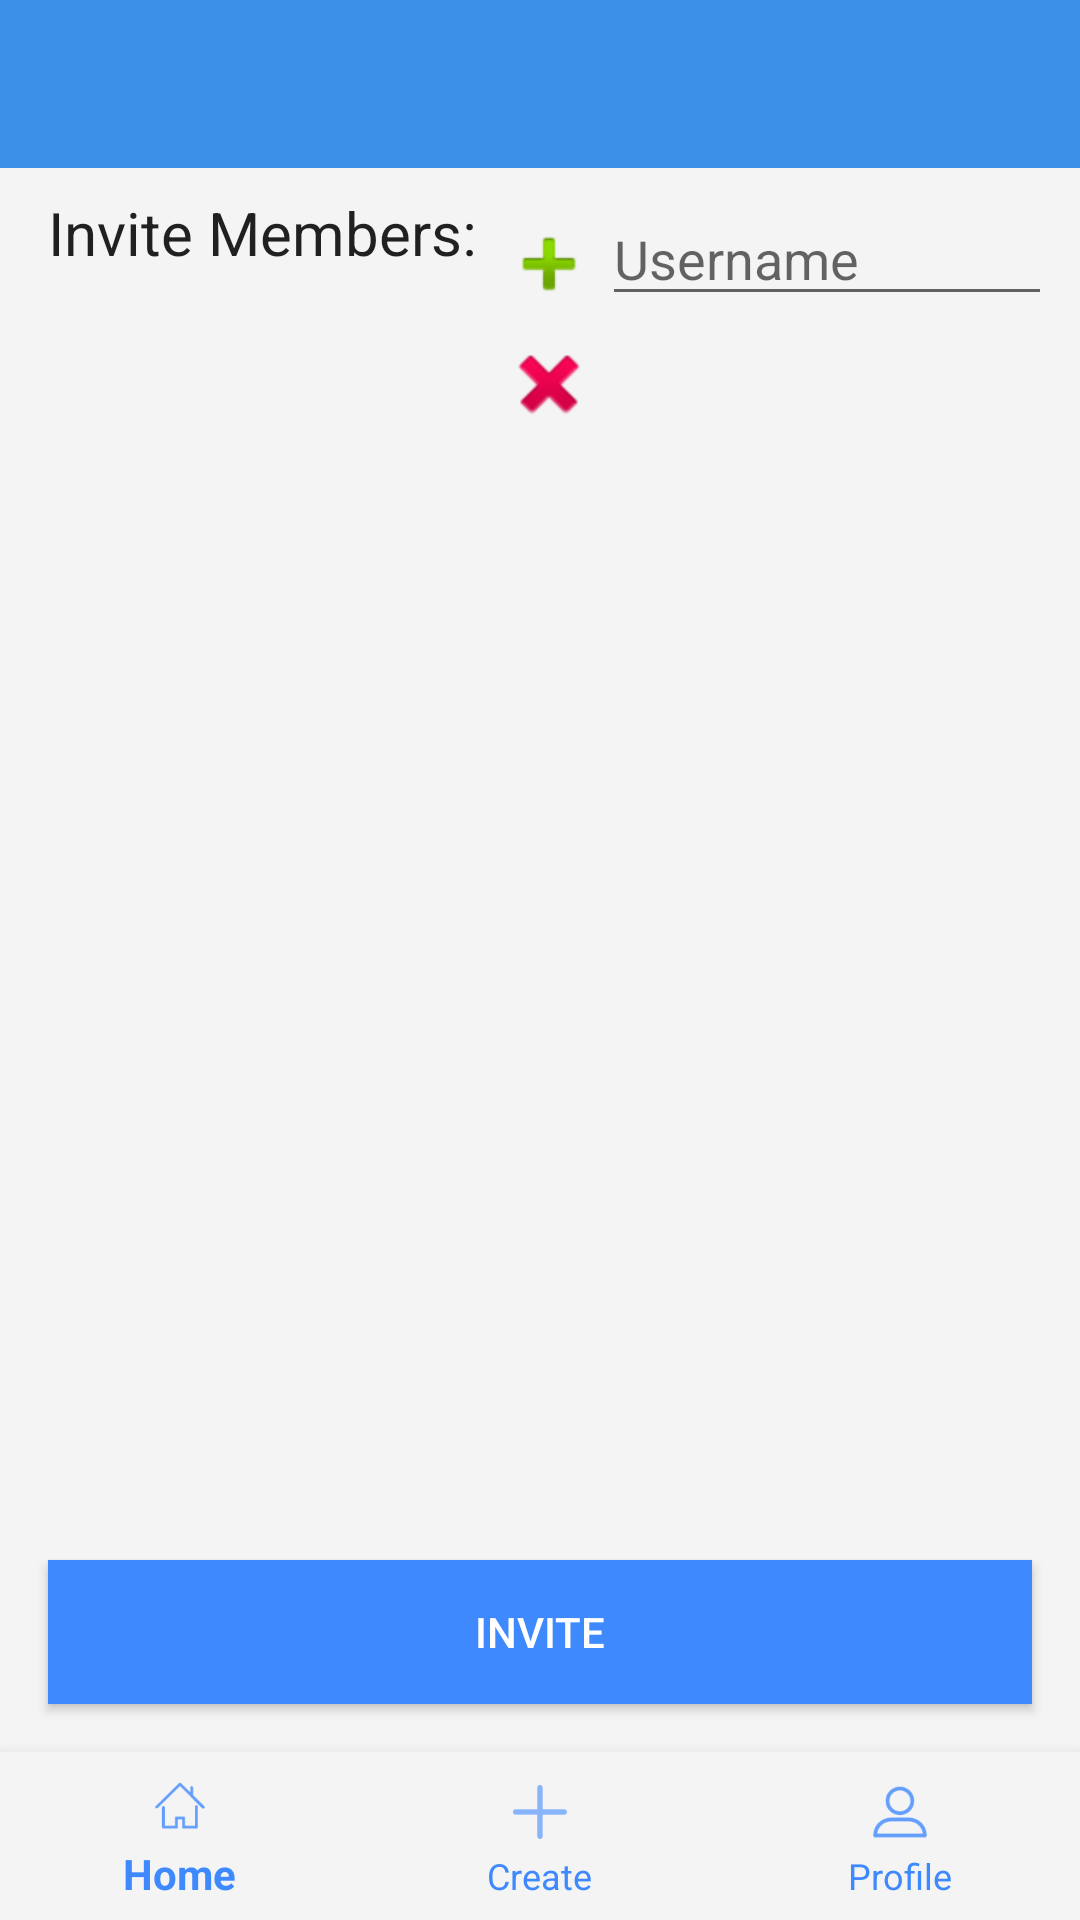

Icons on this 1080px×1920px Android screen, each with the point to tap as (x=x, y=y):
add: (x=549, y=264)
delete: (x=549, y=384)
